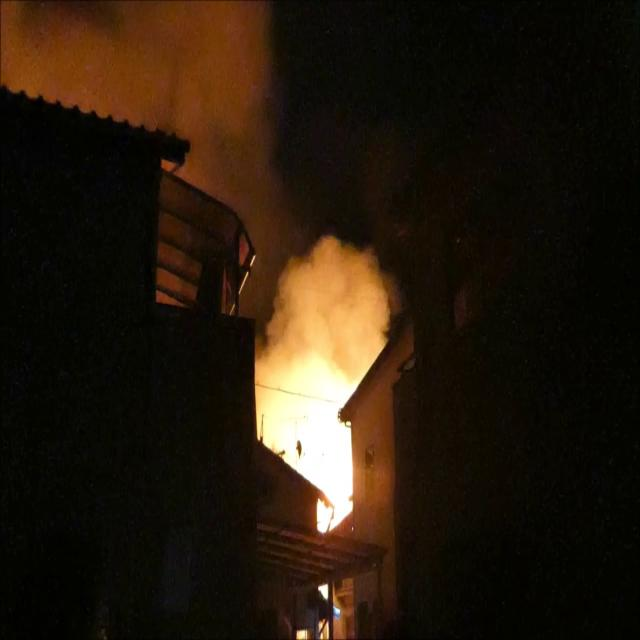Fire: (268, 325, 360, 533)
Smoke: (124, 0, 297, 229)
